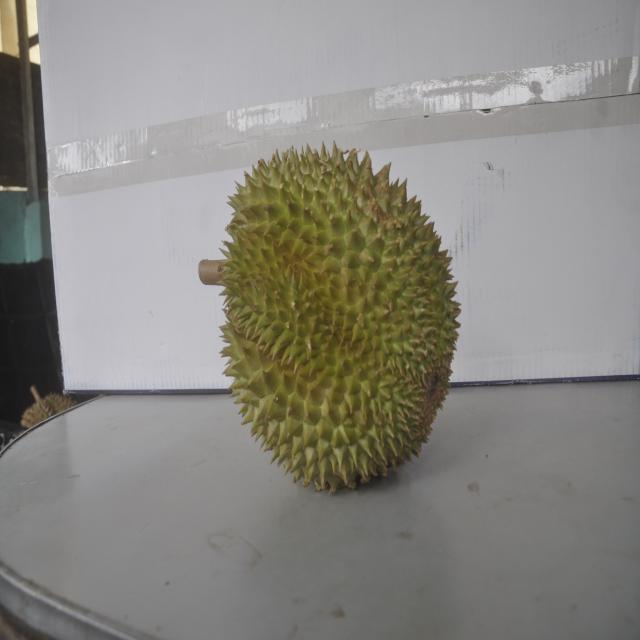mature: (209, 137, 449, 493), (21, 389, 80, 428)
